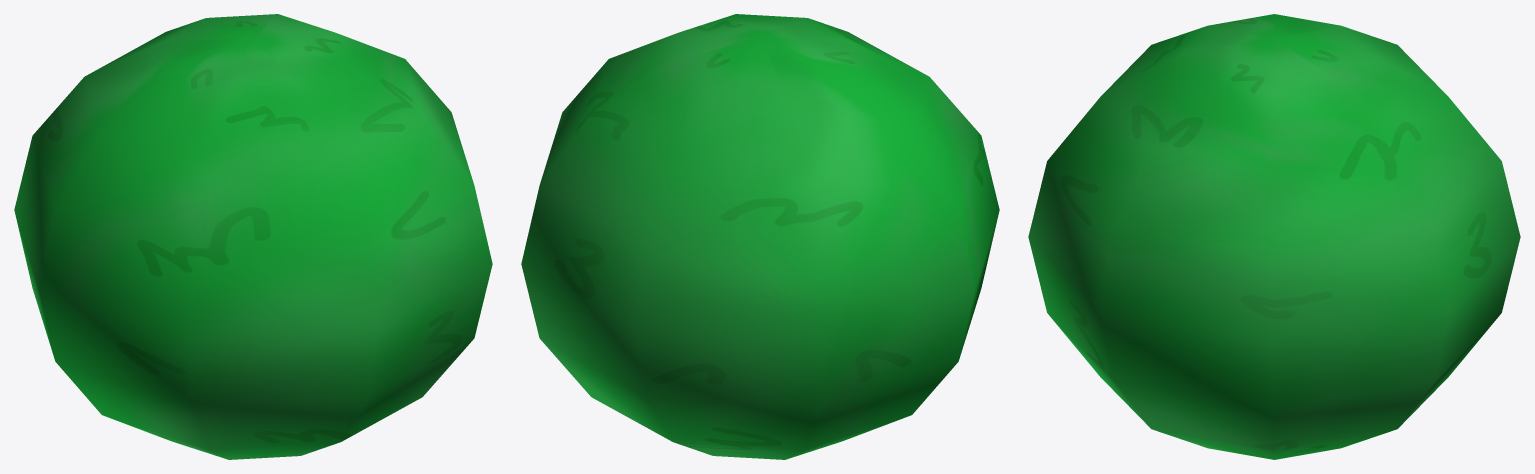
Rendered from SD_BushV3.fbx.
The picture shows the model from 3 angles, left to right: view 1: azimuth 30°, elevation 25°; view 2: azimuth 150°, elevation 25°; view 3: azimuth 270°, elevation 25°; orthographic projection.
Visible parts, largest first — view 1: BushV2; view 2: BushV2; view 3: BushV2.
Boxes of the visible parts, x1,y1,x2,y2 form: BushV2: (14,14,492,459); BushV2: (521,14,999,459); BushV2: (1028,14,1520,459).
Bounding box in the file's own units: 225 × 200 × 225.
2 materials, 2 textured.
